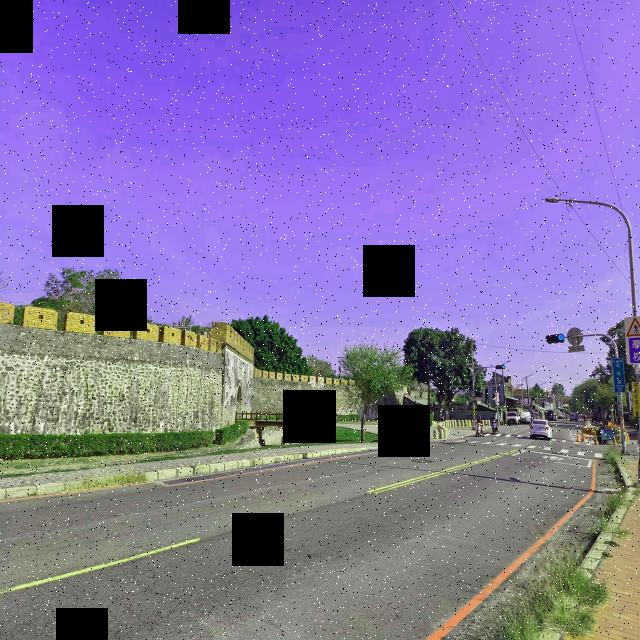zebra crossing: (455, 439, 604, 459), (551, 437, 593, 446), (485, 432, 530, 438)
